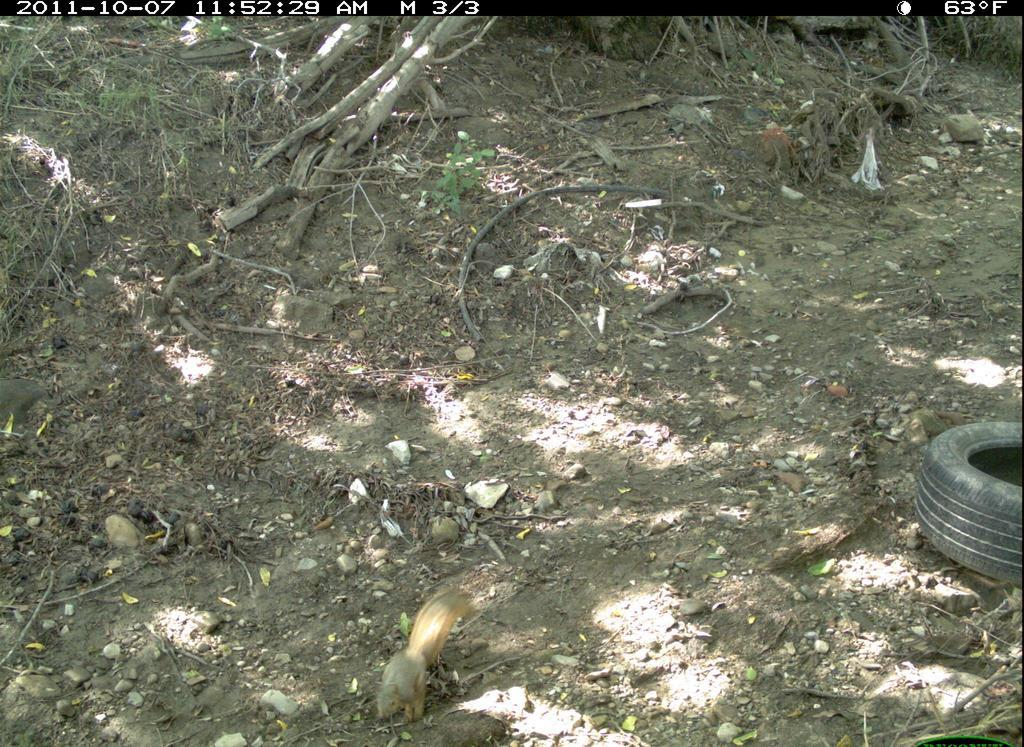squirrel: (374, 584, 479, 728)
